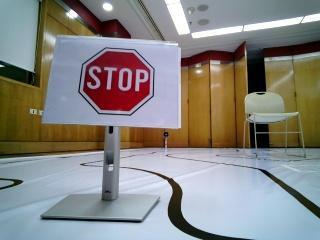stop: (59, 37, 173, 119)
